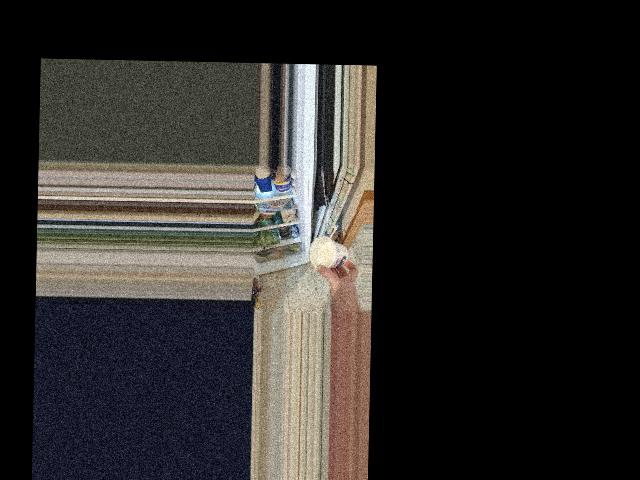cotage: (310, 238, 350, 272)
